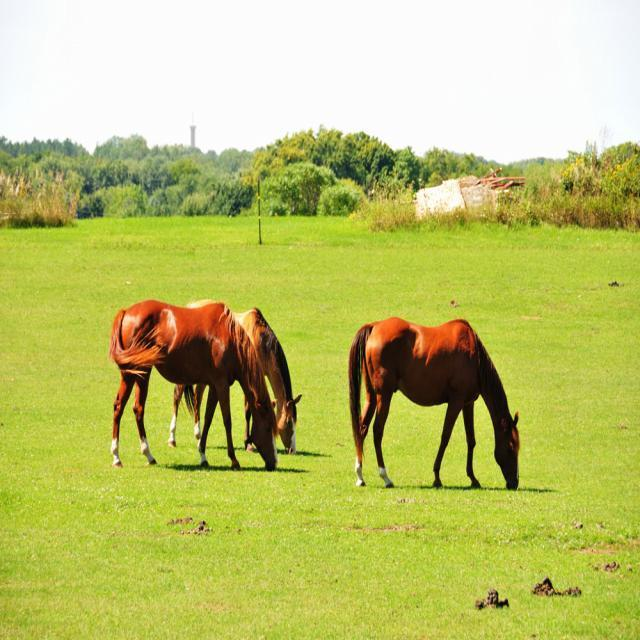horse: (344, 302, 526, 516), (102, 296, 281, 498), (236, 285, 322, 482)
